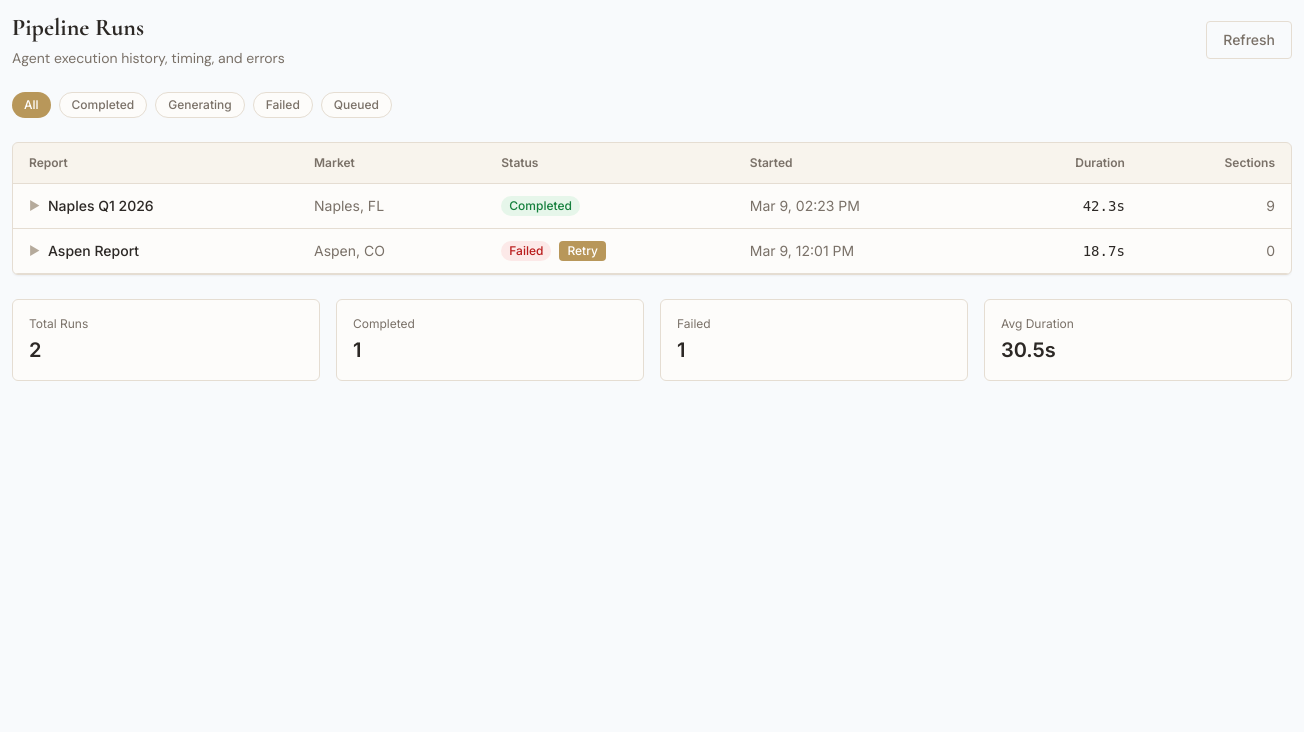
Scenario: PipelineVisualizer › Expanded details › shows error message for failed runs
Expected: the text "Aspen Report" is shown, [48,241,139,261]
Click the row with test id "pipeline-run-run-2" at (652, 251), box [13,228,1291,274]
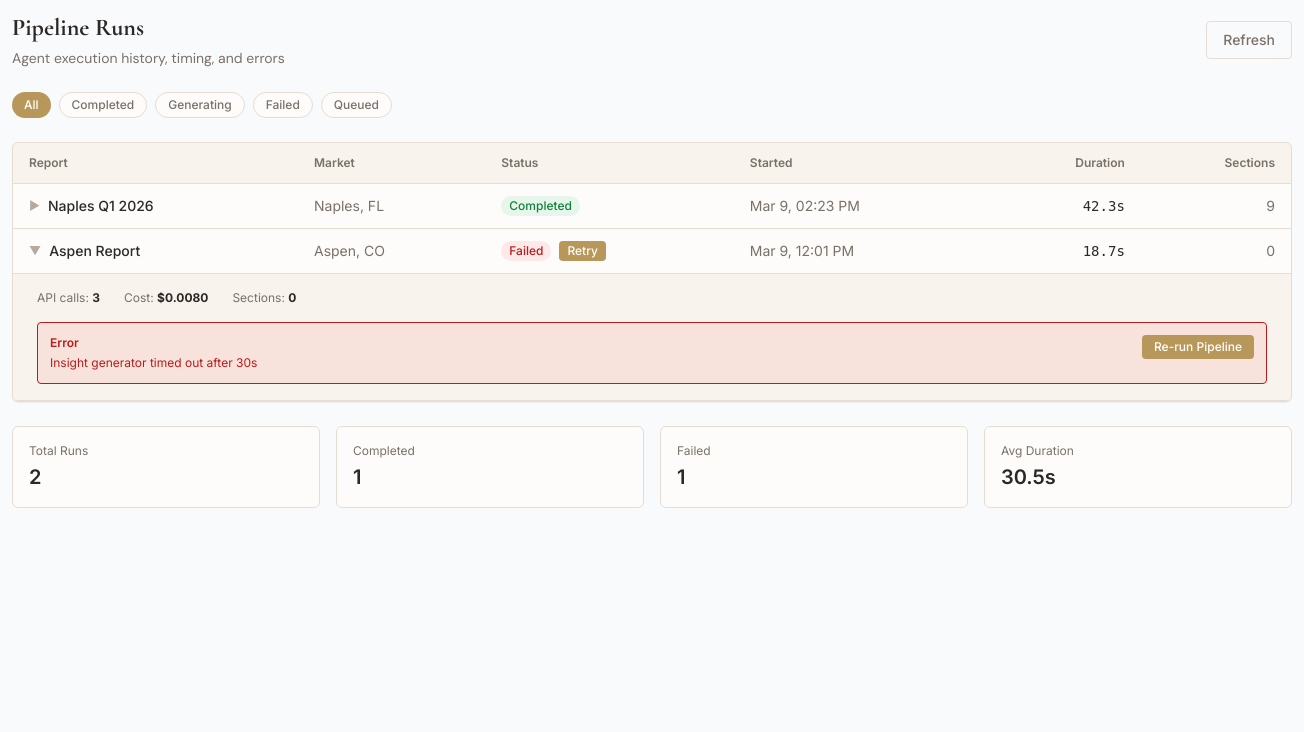
Now the text "Insight generator timed out after 30s" is shown, box [50,355,257,371]
